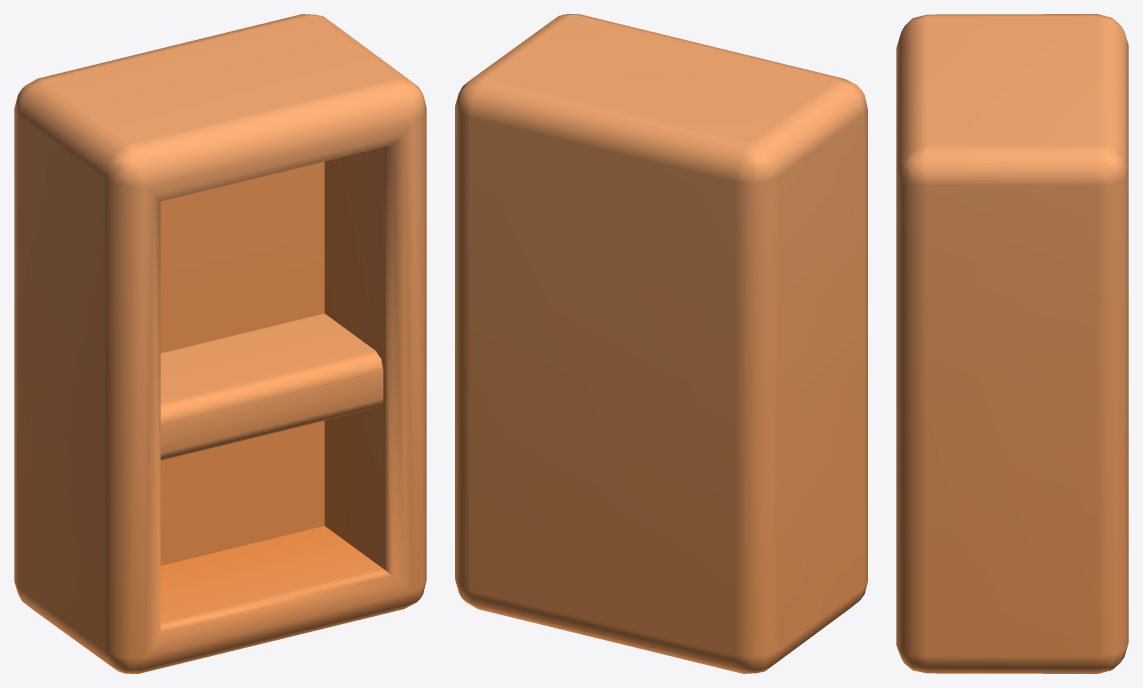
Rendered from Kitchen_Shelf_001.fbx.
The picture shows the model from 3 angles, left to right: view 1: azimuth 30°, elevation 25°; view 2: azimuth 150°, elevation 25°; view 3: azimuth 270°, elevation 25°; orthographic projection.
Visible parts, largest first — view 1: Kitchen_Shelf_001; view 2: Kitchen_Shelf_001; view 3: Kitchen_Shelf_001.
Part boxes in pixels (x1,y1,x2,y2): Kitchen_Shelf_001: (14, 14, 426, 673); Kitchen_Shelf_001: (455, 14, 867, 673); Kitchen_Shelf_001: (896, 14, 1128, 673).
Size of the model in its own units: 0.5026 by 0.7971 by 0.3188.
